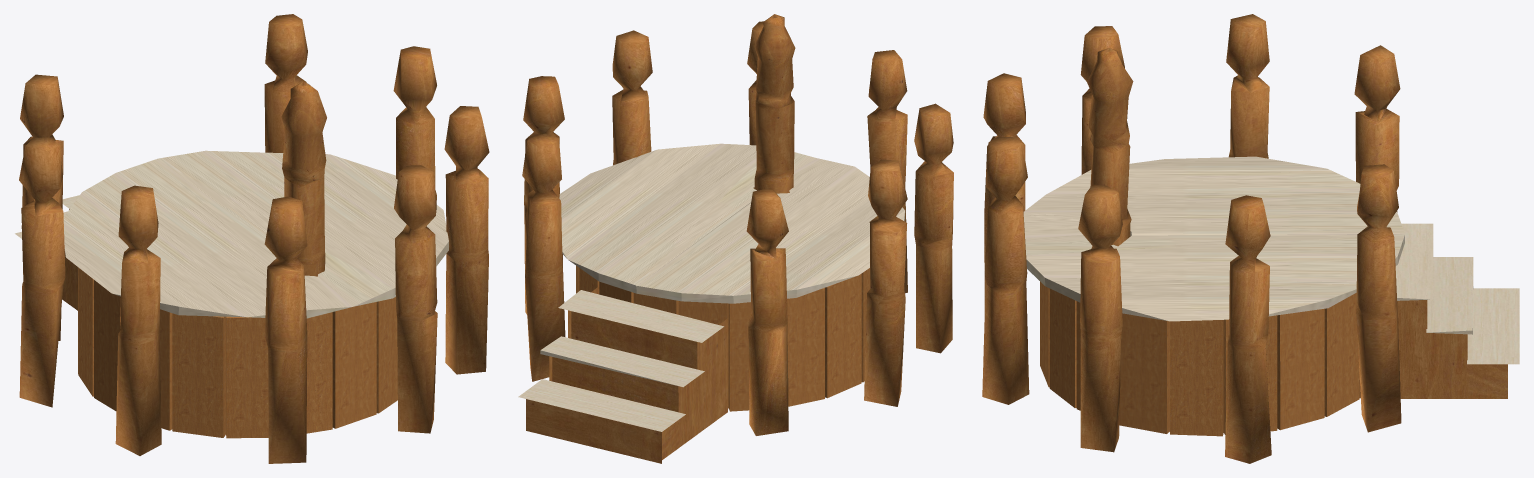
Rendered from utuk-duoga.glb.
3 renders of one model, left to right at view 1: azimuth 30°, elevation 25°; view 2: azimuth 150°, elevation 25°; view 3: azimuth 270°, elevation 25°, orthographic. The views are drawn at different scales.
Visible parts, largest first — view 1: Ытык дуо5а; view 2: Ытык дуо5а; view 3: Ытык дуо5а.
Boxes of the visible parts, x1,y1,x2,y2 form: Ытык дуо5а: (15, 14, 489, 463); Ытык дуо5а: (518, 14, 953, 463); Ытык дуо5а: (982, 14, 1519, 463).
Size of the model in its own units: 2.49 by 1.84 by 2.82.
Materials: 2 (2 with a texture image).
